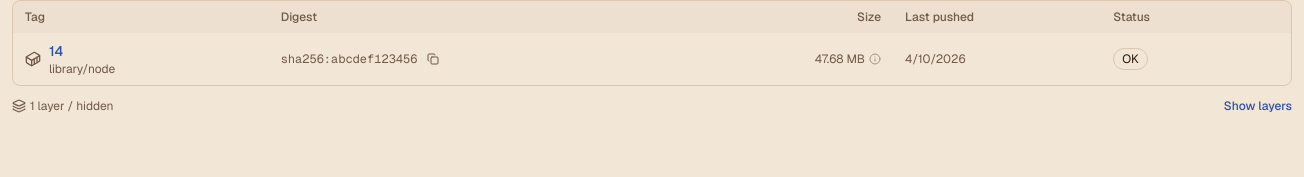
Test: DockerTagList › toggling 'Show layers' twice hides the panel again
Click the button with test id "toggle-layers".
click(1258, 106)  # box x1=1224 y1=98 x2=1292 y2=114
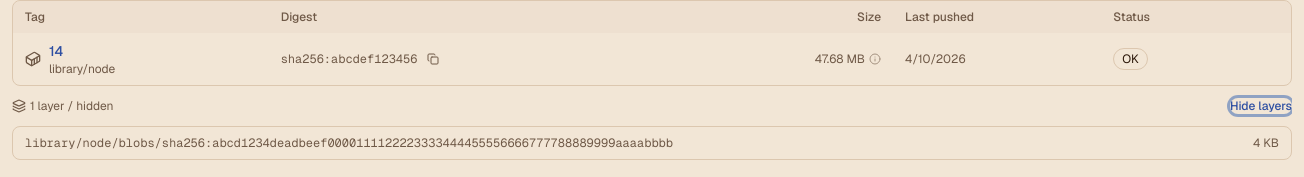
Result: the element with test id "docker-layer-list" is shown at x1=12 y1=126 x2=1292 y2=160
Click the button with test id "toggle-layers".
click(1261, 106)  # box x1=1230 y1=98 x2=1292 y2=114
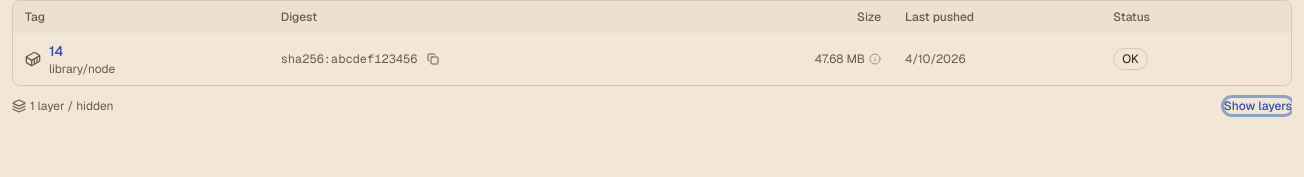
Result: the element with test id "docker-layer-list" is gone
